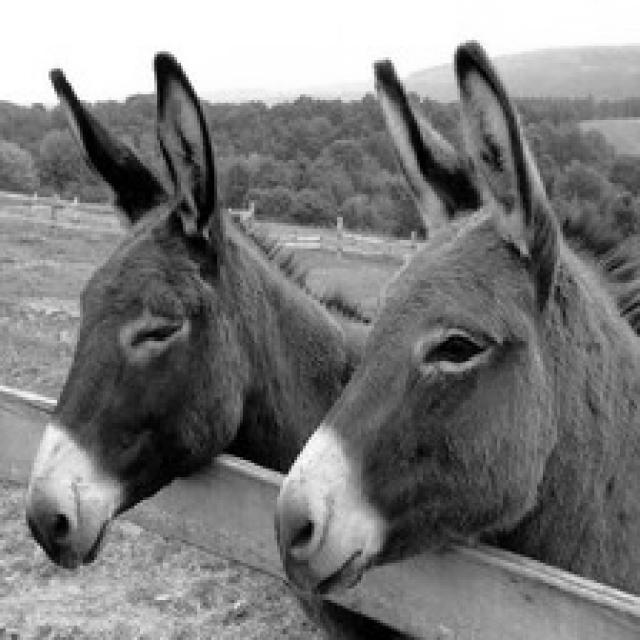Donkey: (272, 37, 637, 634), (23, 49, 374, 572)
